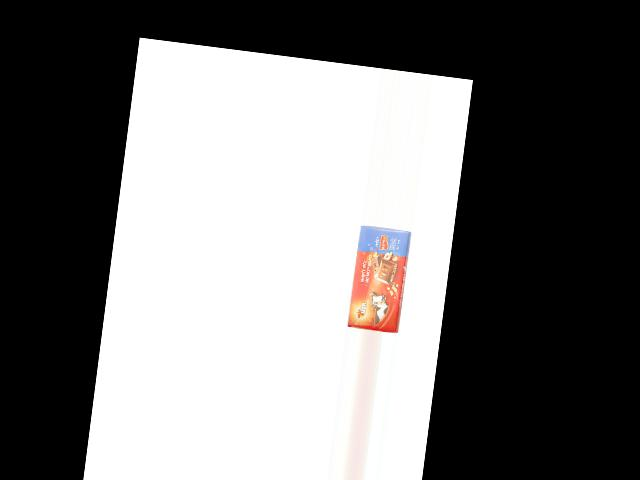chocolate: (348, 226, 415, 334)
